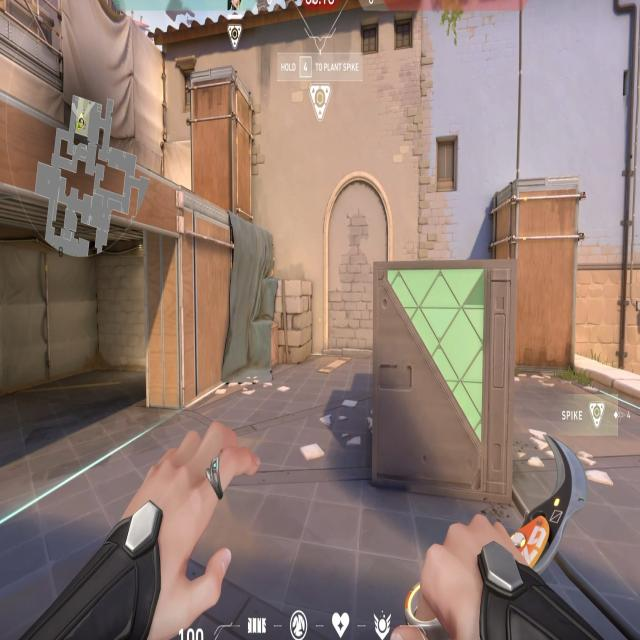A_Heaven_Box: (187, 64, 263, 224)
A_Hell: (0, 163, 192, 458)
